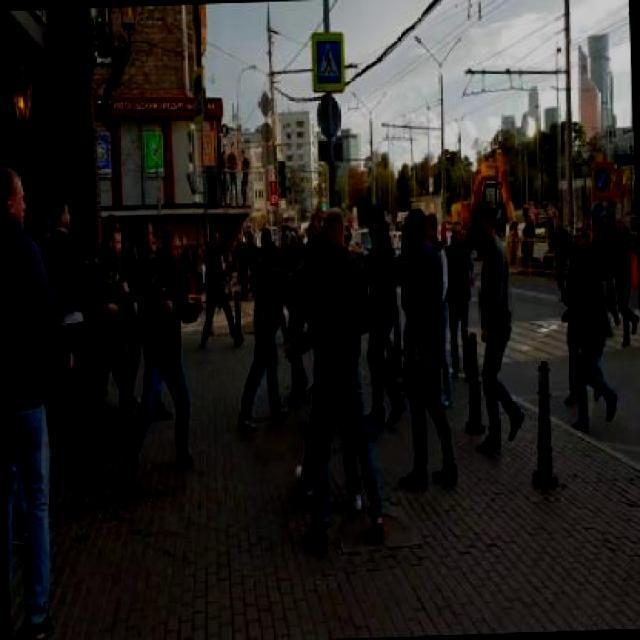fight: (233, 238, 324, 428)
non-fight: (110, 228, 212, 494)
